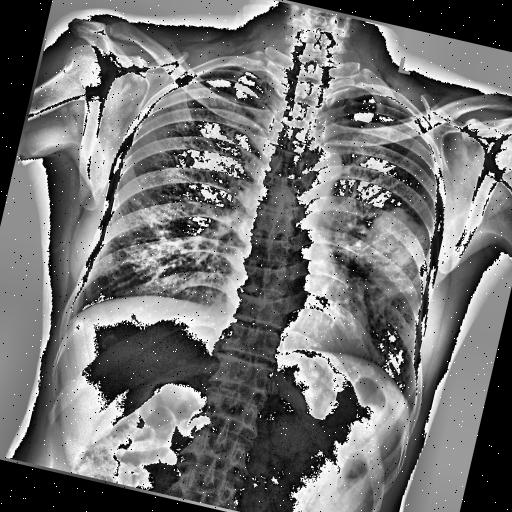8- Nodule-Mass: (342, 198, 442, 308), (354, 200, 441, 304), (352, 200, 440, 302)
